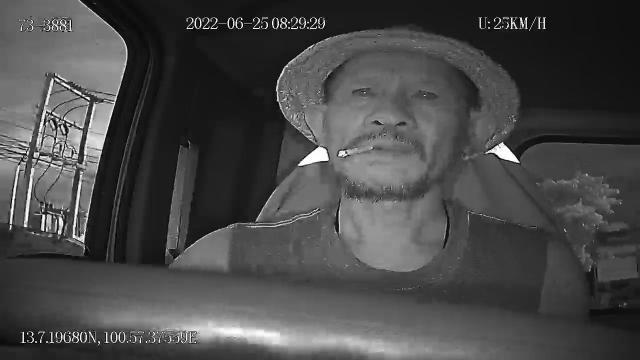SafeDriving: (346, 76, 381, 106), (408, 81, 446, 107)
Smoking: (338, 143, 374, 159)
